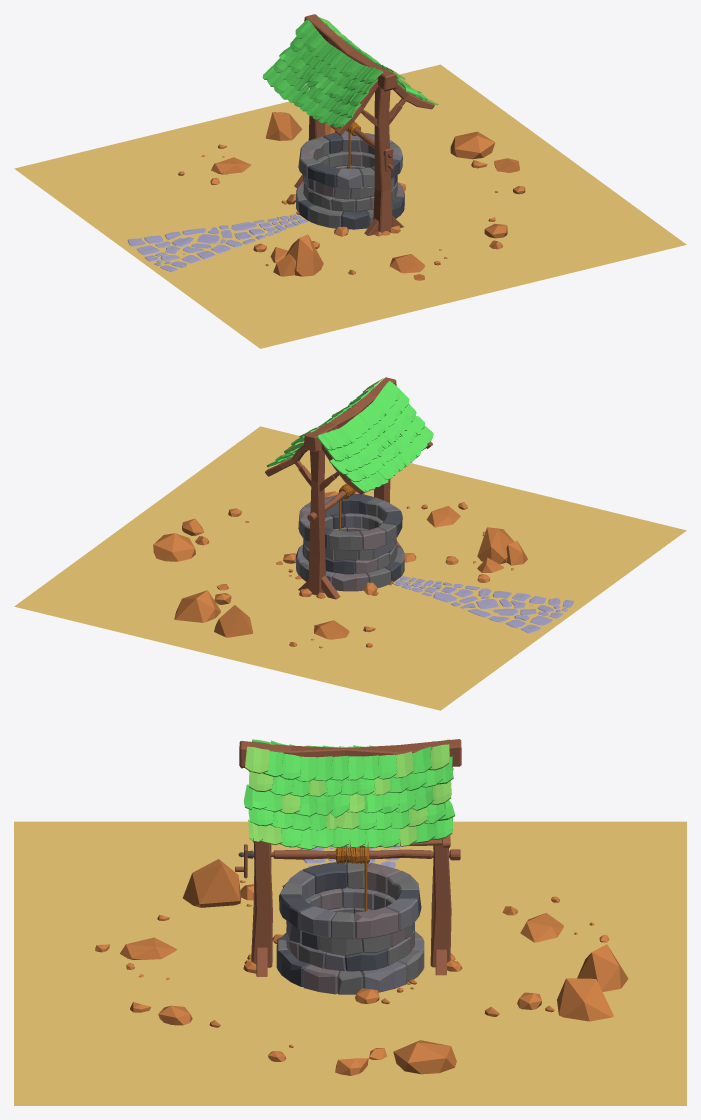
The model's file is well.glb.
3 renders of one model, top to bottom at view 1: azimuth 30°, elevation 25°; view 2: azimuth 150°, elevation 25°; view 3: azimuth 270°, elevation 25°, orthographic. The views are drawn at different scales.
Visible parts, largest first — view 1: Plane, Well, Plane.002, Icosphere.022, Plane.037, Side Pole 1, Top Pole, Plane.001, Cylinder; view 2: Plane, Well, Icosphere.022, Plane.002, Plane.037, Side Pole 2, Top Pole, Plane.001; view 3: Plane, Plane.001, Well, Icosphere.022, Side Pole 1, Side Pole 2, Cylinder, Top Pole.
Boxes of the visible parts, left/top/right/bottom form: Plane: left=14, top=64, right=686, bottom=348; Well: left=296, top=131, right=404, bottom=229; Plane.002: left=262, top=19, right=383, bottom=128; Icosphere.022: left=178, top=112, right=525, bottom=280; Plane.037: left=127, top=214, right=307, bottom=271; Side Pole 1: left=361, top=86, right=406, bottom=235; Top Pole: left=304, top=14, right=397, bottom=91; Plane.001: left=317, top=17, right=438, bottom=105; Cylinder: left=346, top=121, right=394, bottom=171; Plane: left=14, top=426, right=686, bottom=710; Well: left=295, top=494, right=404, bottom=591; Icosphere.022: left=153, top=491, right=527, bottom=648; Plane.002: left=318, top=381, right=433, bottom=492; Plane.037: left=394, top=576, right=573, bottom=633; Side Pole 2: left=295, top=448, right=340, bottom=599; Top Pole: left=303, top=377, right=396, bottom=451; Plane.001: left=267, top=378, right=383, bottom=467; Plane: left=14, top=821, right=686, bottom=1105; Plane.001: left=244, top=744, right=454, bottom=849; Well: left=276, top=862, right=424, bottom=994; Icosphere.022: left=95, top=859, right=628, bottom=1075; Side Pole 1: left=251, top=838, right=272, bottom=976; Side Pole 2: left=430, top=845, right=451, bottom=975; Cylinder: left=235, top=844, right=460, bottom=911; Top Pole: left=239, top=739, right=461, bottom=768.
Bounding box in the file's own units: 60.74 × 25.67 × 60.74.
